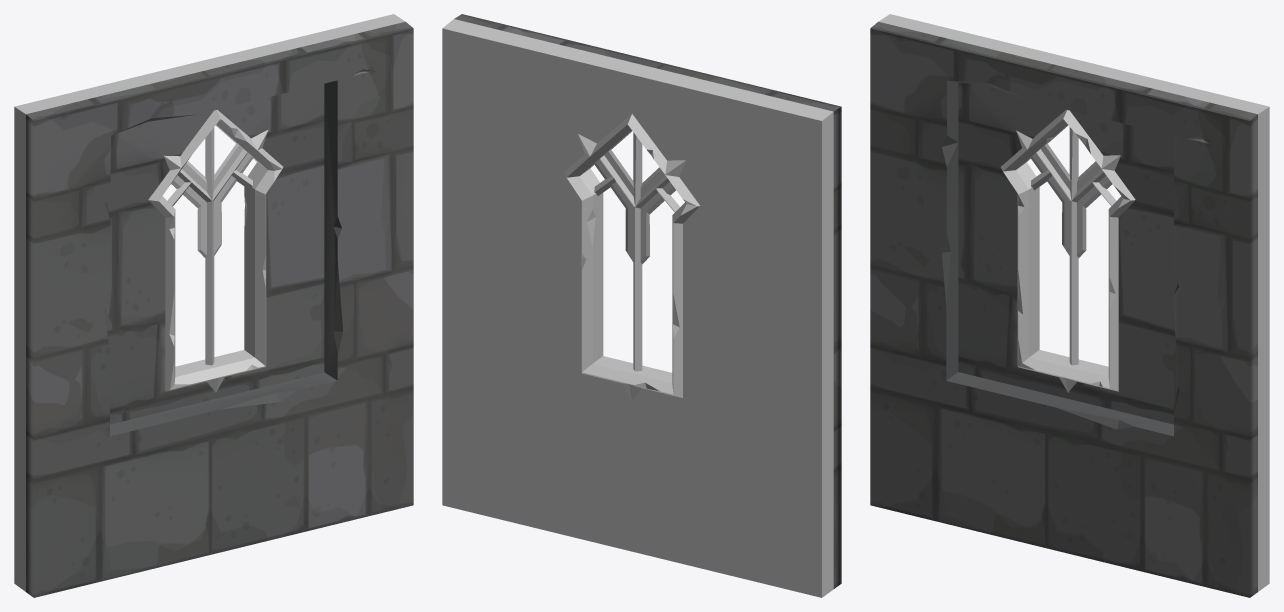
The model's file is SM_Bld_Wall_L_Window_05.fbx.
The picture shows the model from 3 angles, left to right: view 1: azimuth 30°, elevation 25°; view 2: azimuth 150°, elevation 25°; view 3: azimuth 330°, elevation 25°; orthographic projection.
Visible parts, largest first — view 1: SM_Bld_Wall_L_Window_05; view 2: SM_Bld_Wall_L_Window_05; view 3: SM_Bld_Wall_L_Window_05.
Boxes of the visible parts, bbox=[...] form: SM_Bld_Wall_L_Window_05: bbox=[14, 14, 413, 597]; SM_Bld_Wall_L_Window_05: bbox=[442, 14, 841, 597]; SM_Bld_Wall_L_Window_05: bbox=[870, 14, 1269, 597].
Bounding box in the file's own units: 500 × 601 × 55.09.
